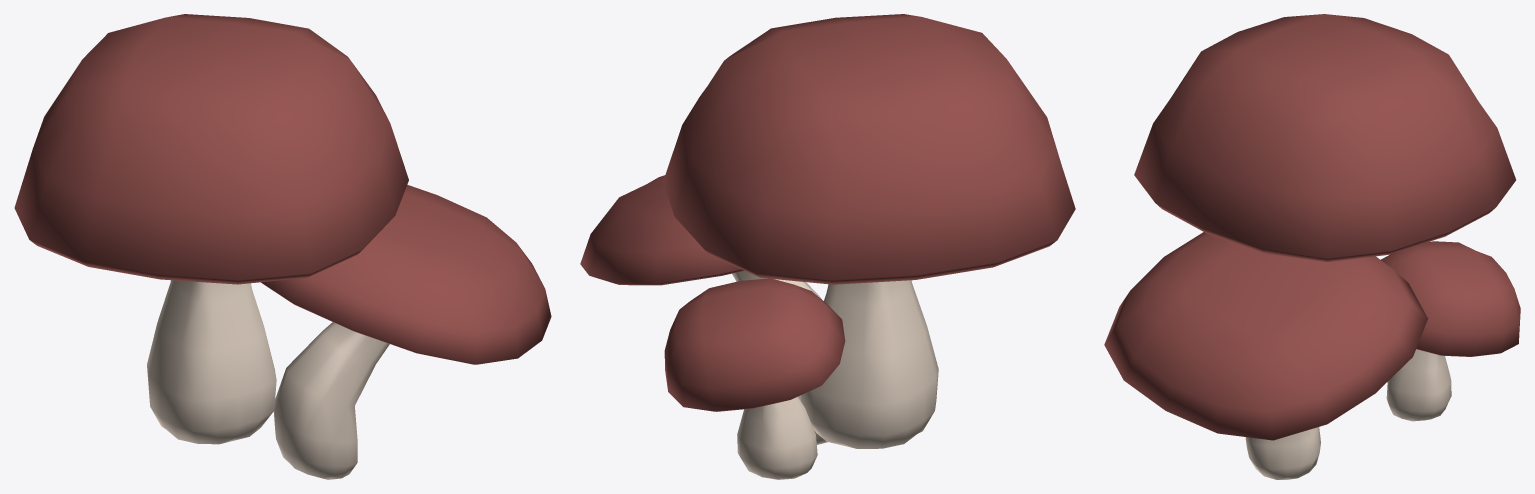
Rendered from Mushroom_3.fbx.
3 renders of one model, left to right at view 1: azimuth 30°, elevation 25°; view 2: azimuth 150°, elevation 25°; view 3: azimuth 270°, elevation 25°, orthographic. The views are drawn at different scales.
Parts seen in each view (by area): view 1: Mush; view 2: Mush; view 3: Mush.
Part boxes in pixels (<box>): Mush: <box>14,14,551,479</box>; Mush: <box>580,14,1075,479</box>; Mush: <box>1104,14,1520,479</box>.
Bounding box in the file's own units: 1153 × 971 × 959.
